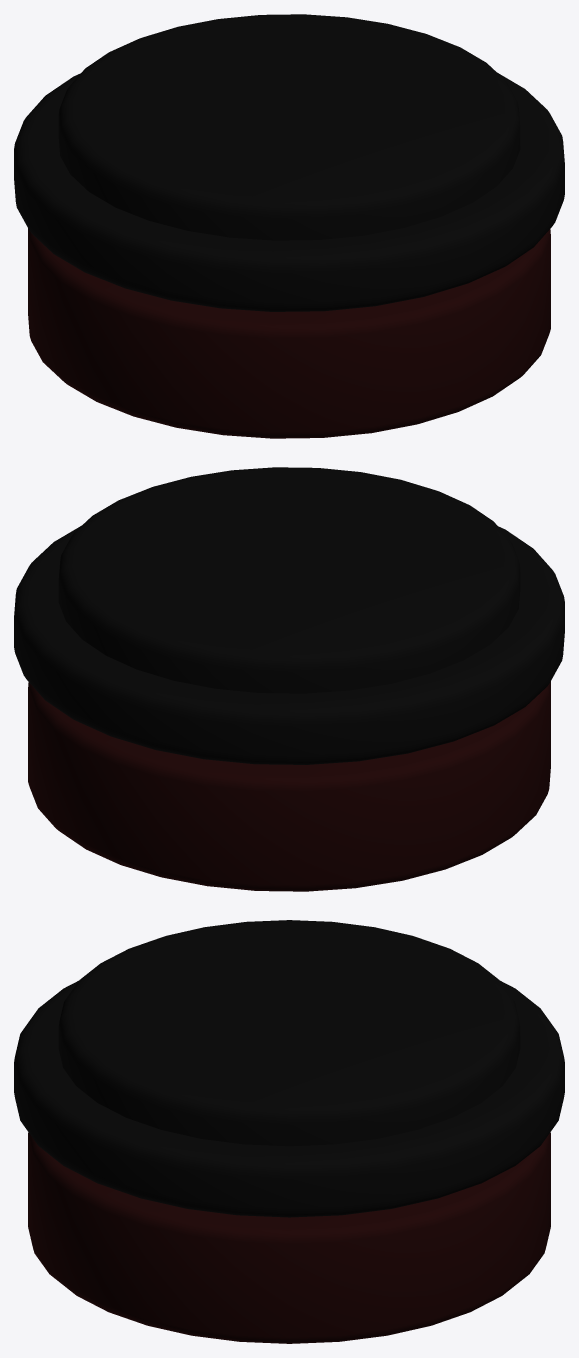
File: BumperRond.fbx
The picture shows the model from 3 angles, top to bottom: view 1: azimuth 30°, elevation 25°; view 2: azimuth 150°, elevation 25°; view 3: azimuth 270°, elevation 25°; orthographic projection.
Parts seen in each view (by area): view 1: Cylinder002, ChamferCyl001; view 2: Cylinder002, ChamferCyl001; view 3: Cylinder002, ChamferCyl001.
Boxes of the visible parts, x1,y1,x2,y2 form: Cylinder002: [14, 14, 564, 311]; ChamferCyl001: [28, 228, 550, 438]; Cylinder002: [14, 467, 564, 764]; ChamferCyl001: [28, 681, 550, 891]; Cylinder002: [14, 920, 564, 1217]; ChamferCyl001: [28, 1132, 550, 1343].
Size of the model in its own units: 418 by 231 by 418.
